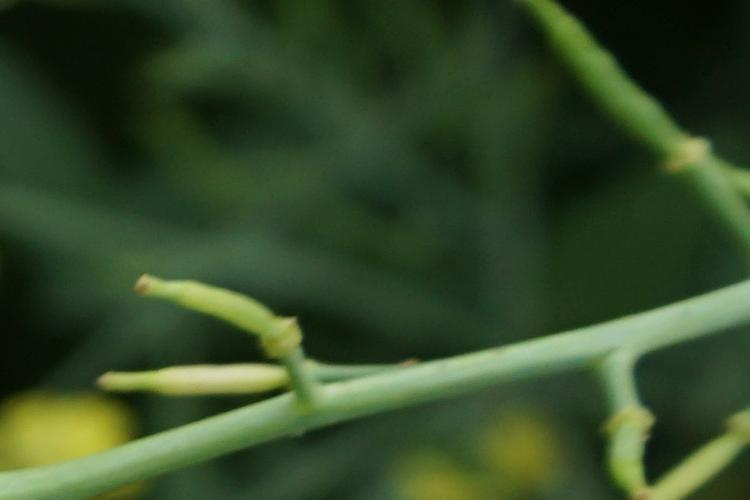pod: (132, 270, 315, 361), (79, 348, 318, 412)
